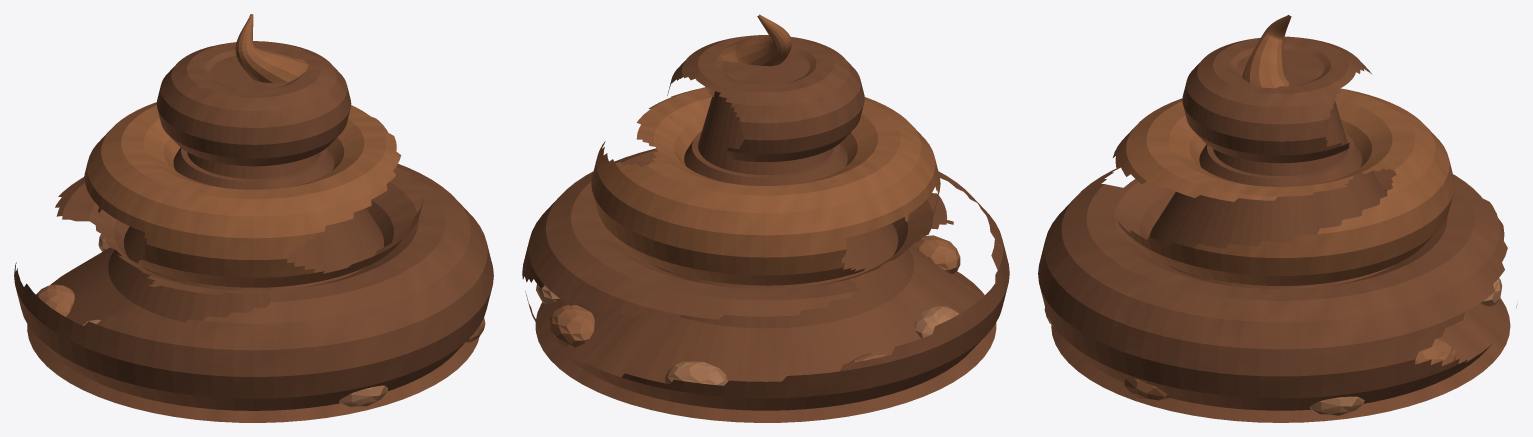
Rendered from poop-mountain.glb.
The picture shows the model from 3 angles, left to right: view 1: azimuth 30°, elevation 25°; view 2: azimuth 150°, elevation 25°; view 3: azimuth 270°, elevation 25°; orthographic projection.
Visible parts, largest first — view 1: Poop_Base, Poop_Middle, poop-mountain, Poop_Crown, Crown_Clay_Core; view 2: poop-mountain, Poop_Middle, Poop_Base, Poop_Crown, Crown_Clay_Core; view 3: Poop_Base, Poop_Middle, poop-mountain, Poop_Crown, Crown_Clay_Core.
Part boxes in pixels (bbox=[...]): Poop_Base: bbox=[14, 164, 493, 410]; Poop_Middle: bbox=[82, 102, 425, 287]; poop-mountain: bbox=[27, 14, 485, 422]; Poop_Crown: bbox=[156, 41, 351, 166]; Crown_Clay_Core: bbox=[187, 55, 320, 178]; poop-mountain: bbox=[535, 14, 996, 422]; Poop_Middle: bbox=[591, 87, 940, 285]; Poop_Base: bbox=[522, 148, 1009, 410]; Poop_Crown: bbox=[667, 35, 864, 162]; Crown_Clay_Core: bbox=[698, 51, 833, 174]; Poop_Base: bbox=[1038, 167, 1517, 410]; Poop_Middle: bbox=[1113, 88, 1454, 286]; poop-mountain: bbox=[1044, 15, 1510, 422]; Poop_Crown: bbox=[1182, 36, 1371, 163]; Crown_Clay_Core: bbox=[1213, 49, 1348, 175].
Bounding box in the file's own units: 29.6 × 21.25 × 29.32.
